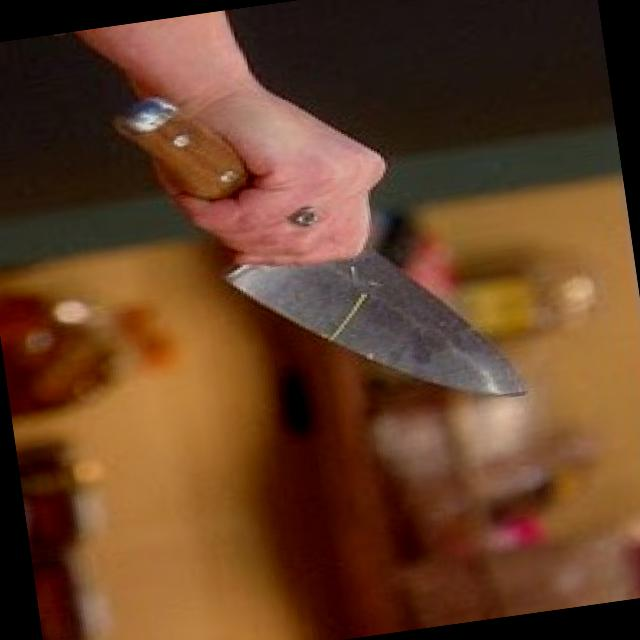knife: (178, 152, 552, 448)
